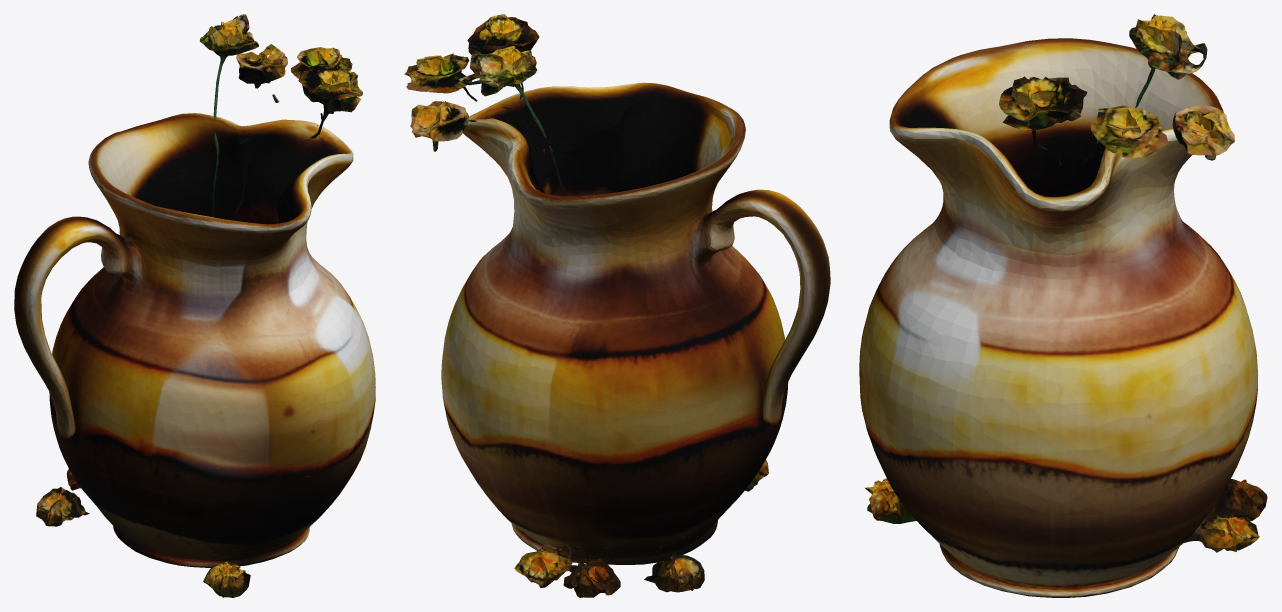
The model's file is ceramic-pitcher-rustic.jpeg.glb.
The picture shows the model from 3 angles, left to right: view 1: azimuth 30°, elevation 25°; view 2: azimuth 150°, elevation 25°; view 3: azimuth 270°, elevation 25°; orthographic projection. The views are drawn at different scales.
Visible parts, largest first — view 1: world; view 2: world; view 3: world.
Part boxes in pixels (x1,y1,x2,y2): world: (14, 14, 375, 597); world: (404, 14, 830, 597); world: (859, 14, 1267, 597).
Bounding box in the file's own units: 0.8171 × 0.9984 × 0.6543.
1 material, 1 textured.
